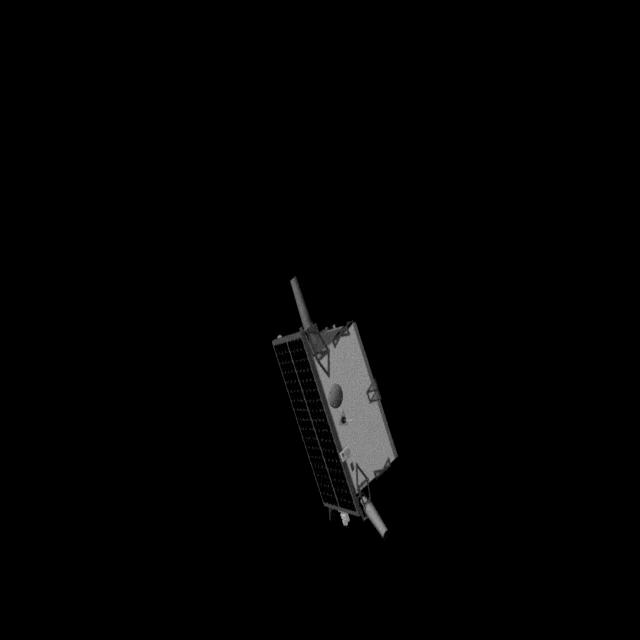medium_debris: (258, 278, 390, 538)
